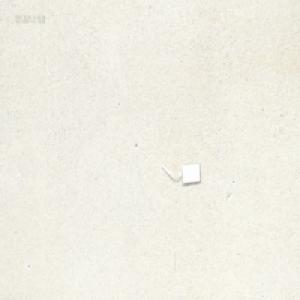LuggageTag: (160, 160, 201, 187)
